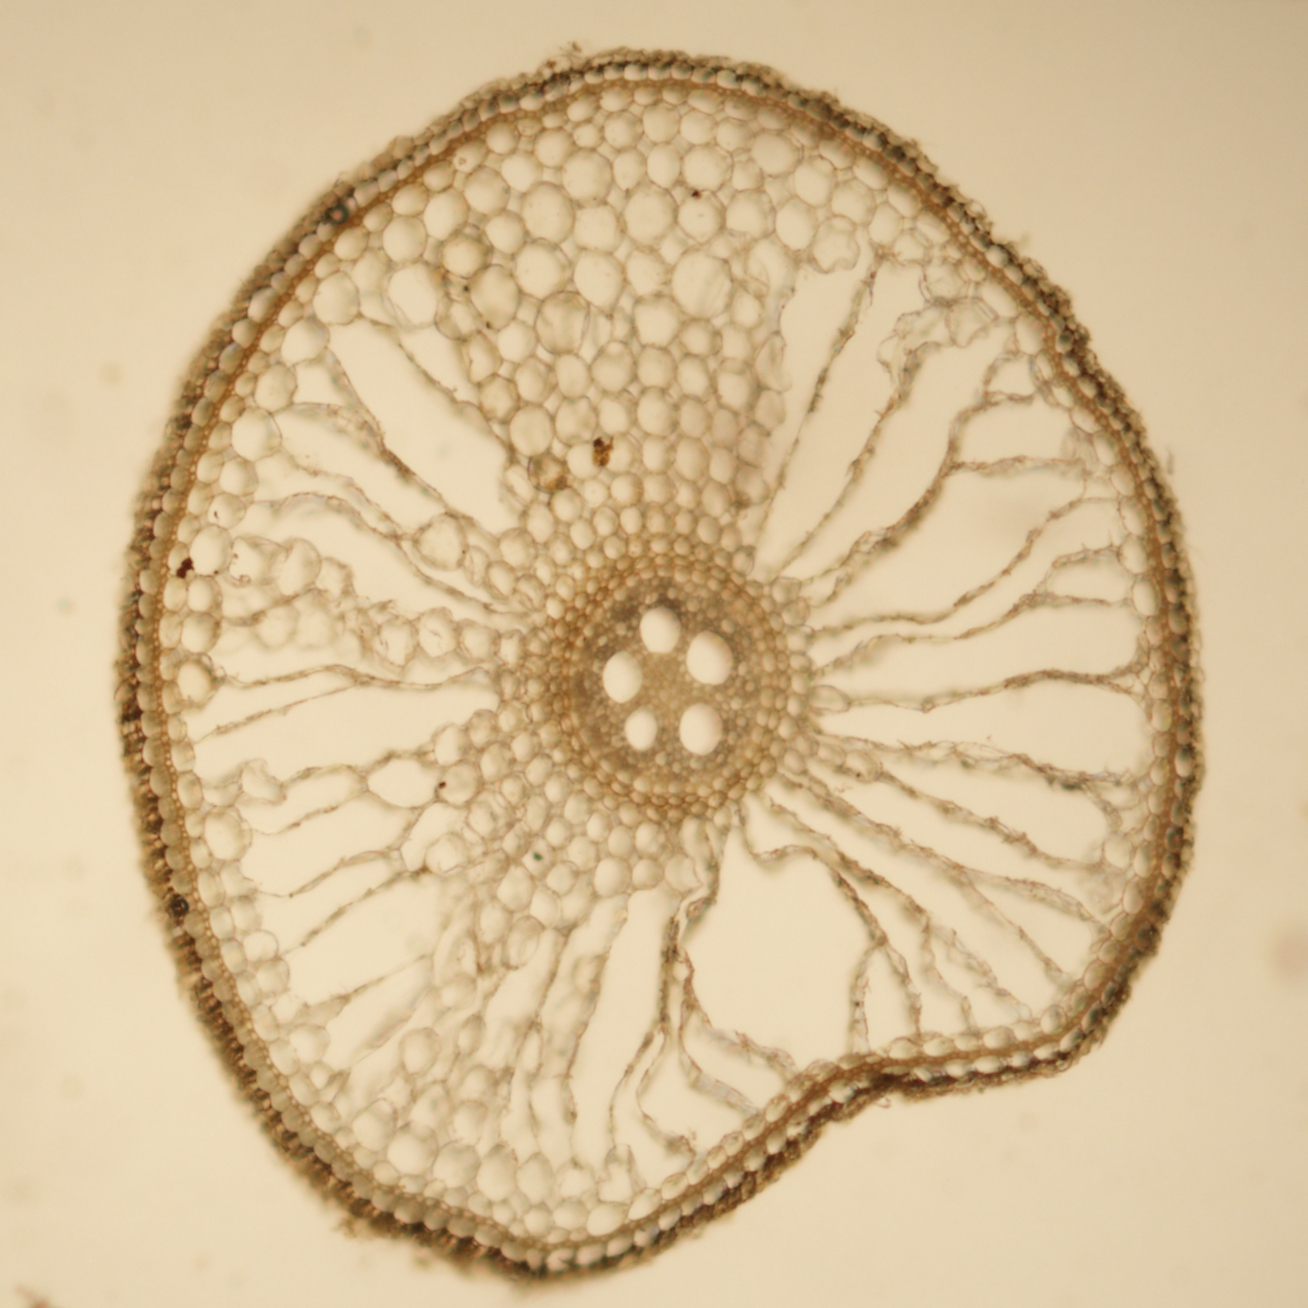lm: (686, 630, 732, 685), (679, 702, 723, 755), (602, 650, 642, 703), (640, 605, 682, 653), (624, 707, 658, 751)
